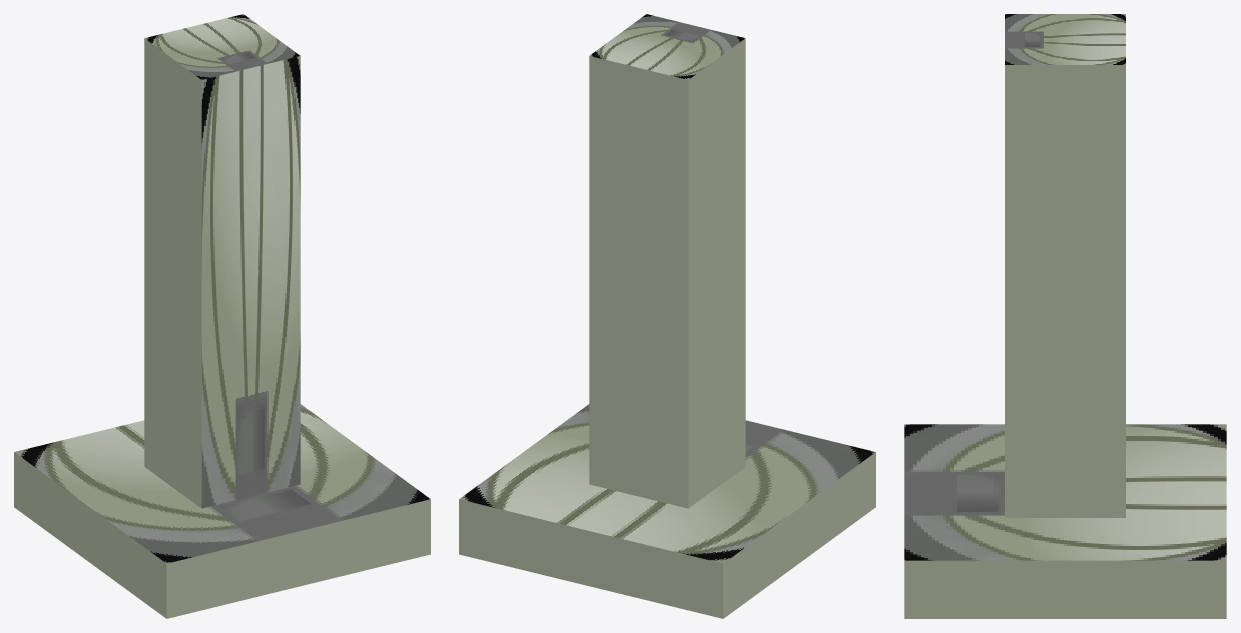
Rendered from Building_BroadshieldProjector.glb.
The picture shows the model from 3 angles, left to right: view 1: azimuth 30°, elevation 25°; view 2: azimuth 150°, elevation 25°; view 3: azimuth 270°, elevation 25°; orthographic projection. The views are drawn at different scales.
Visible parts, largest first — view 1: BroadshieldProjector; view 2: BroadshieldProjector; view 3: BroadshieldProjector.
Boxes of the visible parts, bbox=[...] form: BroadshieldProjector: bbox=[14, 14, 430, 618]; BroadshieldProjector: bbox=[459, 14, 875, 618]; BroadshieldProjector: bbox=[904, 14, 1226, 618].
Bounding box in the file's own units: 0.8 × 1.4 × 0.8.
Materials: 1 (1 with a texture image).
